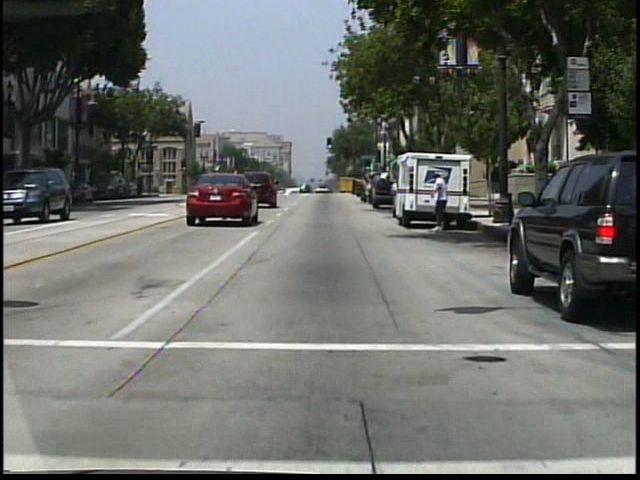person: (426, 172, 458, 235), (355, 173, 378, 210)
